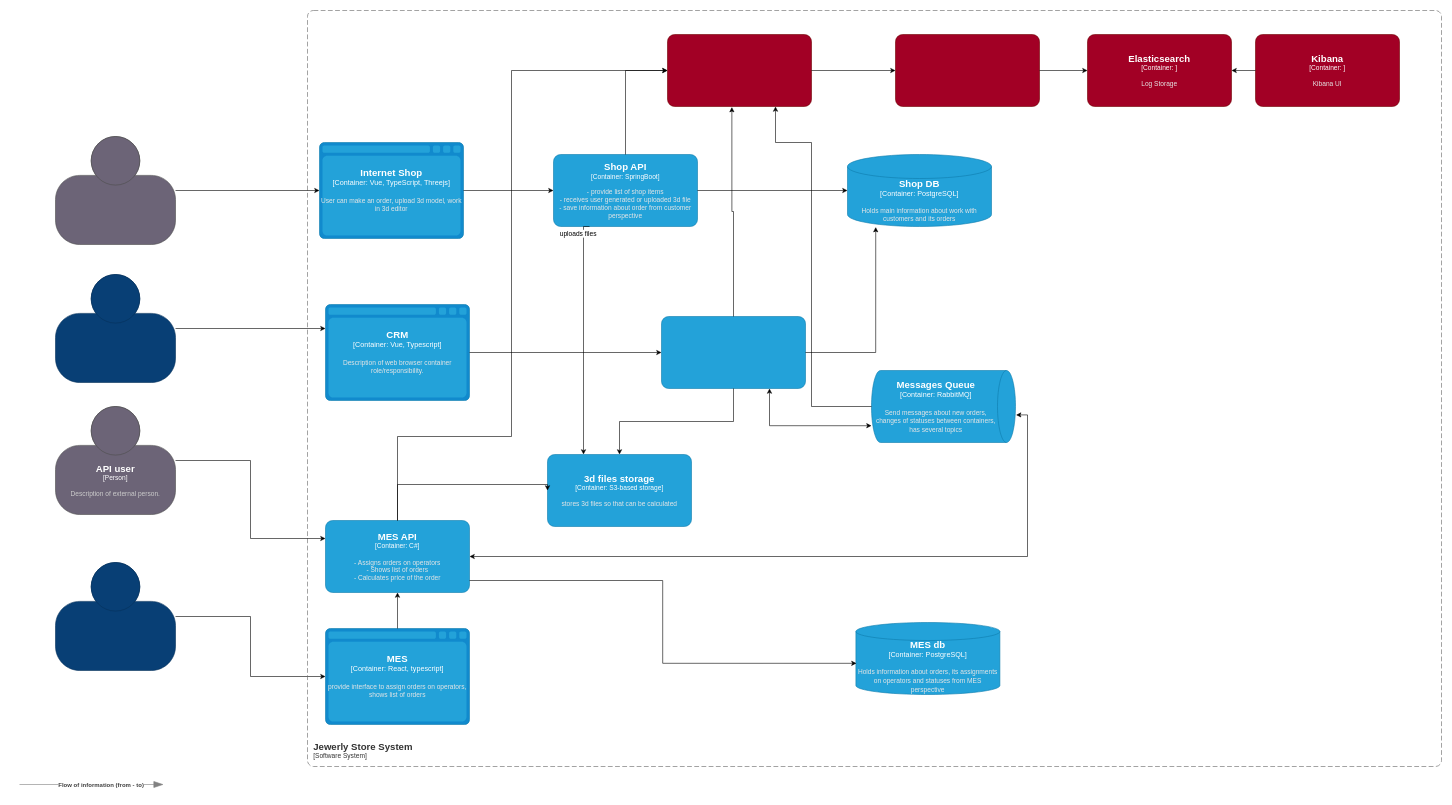
Some shapes in this 1452 by 805 pixel diagram are drawn without their labels. The centre of each missing label's shape, as x and y in pixels:
"CRM API [Container: SpringBoot] Description of container role/responsibility." goes at point 733,352.
"Customer [Person] Description of external person." goes at point 115,190.
"Filebeat [Container: ] Log Shippers" goes at point 739,70.
"Logstash [Container: ] Data Processing" goes at point 967,70.
"Operator [Person] Takes order in work, manufactures jewerly" goes at point 115,616.
"Seller [Person] Operates with order, confirms manufacturing for the user" goes at point 115,328.
